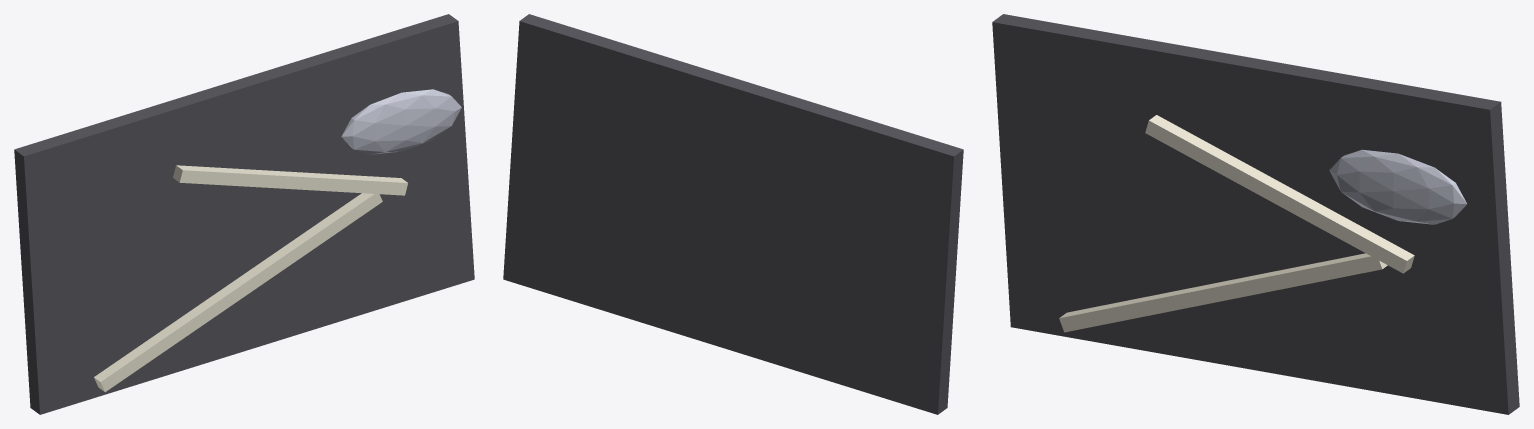
File: 03_weathering_wear_overlay_3.glb
3 views of the same model, side by side, from view 1: azimuth 30°, elevation 25°; view 2: azimuth 150°, elevation 25°; view 3: azimuth 330°, elevation 25° (orthographic). The views are drawn at different scales.
Parts seen in each view (by area): view 1: wear_plate, scratch_a, rust_or_moss_spot, scratch_b; view 2: wear_plate; view 3: wear_plate, rust_or_moss_spot, scratch_b, scratch_a.
Boxes of the visible parts, x1,y1,x2,y2 form: wear_plate: [14, 14, 474, 414]; scratch_a: [94, 193, 382, 392]; rust_or_moss_spot: [341, 89, 461, 154]; scratch_b: [173, 165, 407, 195]; wear_plate: [503, 14, 963, 414]; wear_plate: [992, 14, 1519, 414]; rust_or_moss_spot: [1329, 149, 1466, 224]; scratch_b: [1145, 115, 1414, 273]; scratch_a: [1059, 253, 1387, 332].
Bounding box in the file's own units: 1.35 × 0.8323 × 0.134.
